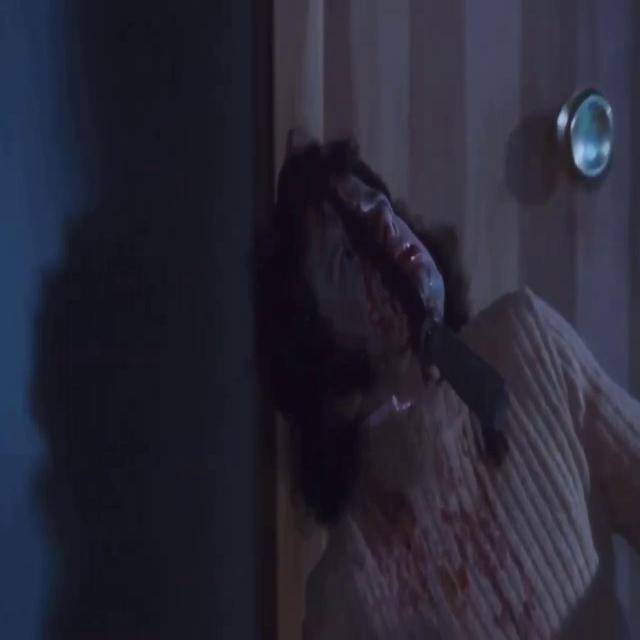flood: (306, 162, 489, 562)
